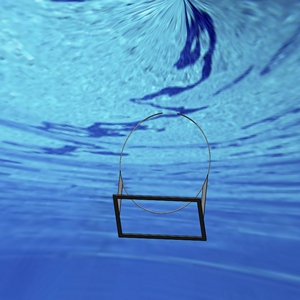circle: (111, 109, 212, 241)
